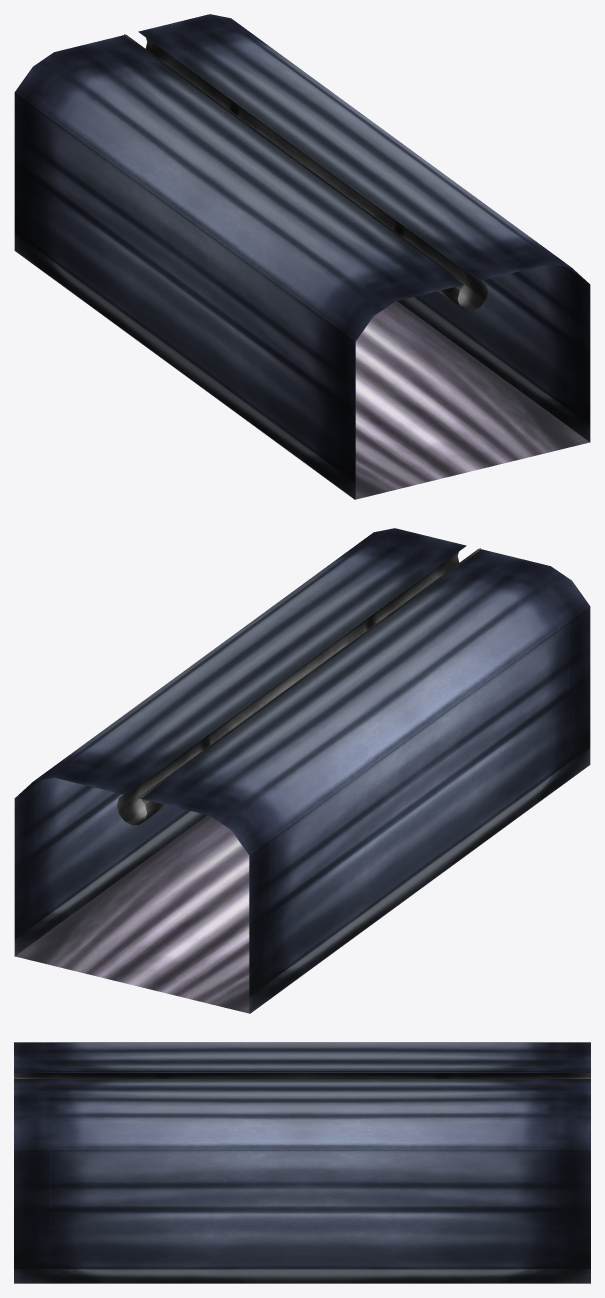
Rendered from hall1.glb.
3 renders of one model, top to bottom at view 1: azimuth 30°, elevation 25°; view 2: azimuth 150°, elevation 25°; view 3: azimuth 270°, elevation 25°, orthographic. The views are drawn at different scales.
Visible parts, largest first — view 1: hall1; view 2: hall1; view 3: hall1.
Part boxes in pixels (x1,y1,x2,y2): hall1: [14, 14, 590, 499]; hall1: [14, 528, 590, 1013]; hall1: [14, 1042, 590, 1283].
Size of the model in its own units: 20 by 15.33 by 50.
1 material, 1 textured.
